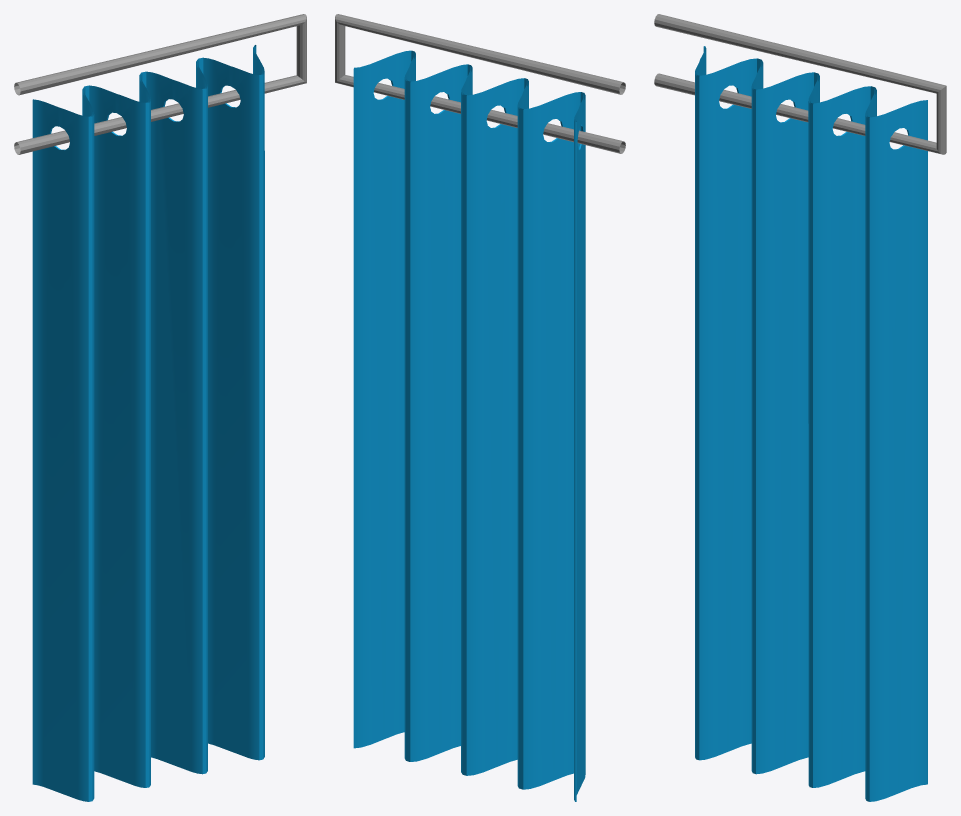
The picture shows the model from 3 angles, left to right: view 1: azimuth 30°, elevation 25°; view 2: azimuth 150°, elevation 25°; view 3: azimuth 330°, elevation 25°; orthographic projection.
Visible parts, largest first — view 1: H-25-1m; view 2: H-25-1m; view 3: H-25-1m.
Boxes of the visible parts, x1,y1,x2,y2 form: H-25-1m: (14,14,306,801); H-25-1m: (335,14,625,801); H-25-1m: (654,14,946,801).
Bounding box in the file's own units: 101 × 242 × 20.14.
